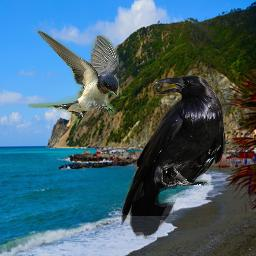Crow: (121, 75, 227, 239)
Swallow: (28, 28, 119, 125)
